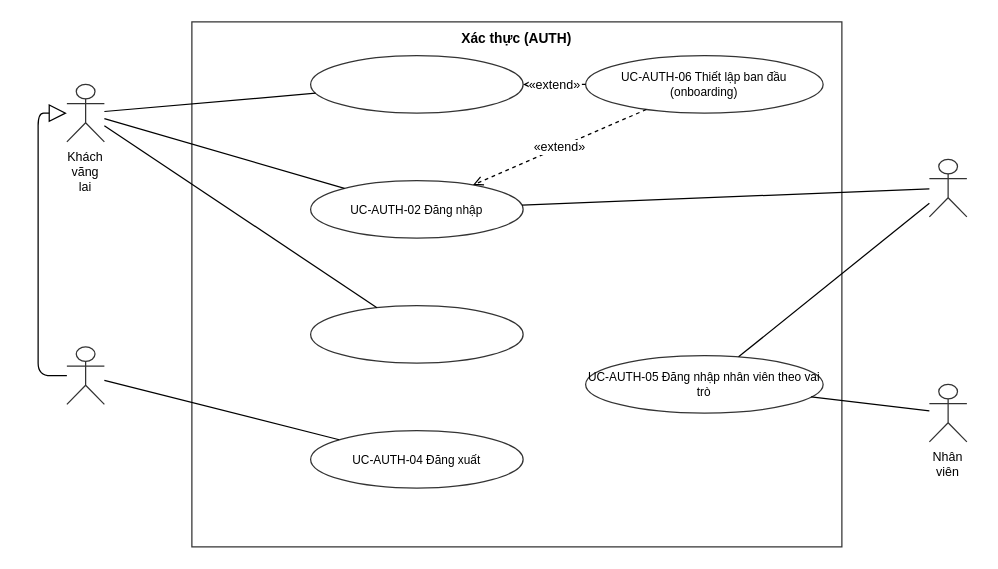
Image size: 998x569. Some labels were removed from this diagram. Each missing label, with the centre of its shape:
"Khách hàng" goes at point 85,375.
"Supabase Auth" goes at point 947,187.
"UC-AUTH-01 Đăng ký tài khoản" goes at point 416,83.
"UC-AUTH-03 Khôi phục mật khẩu" goes at point 416,333.
